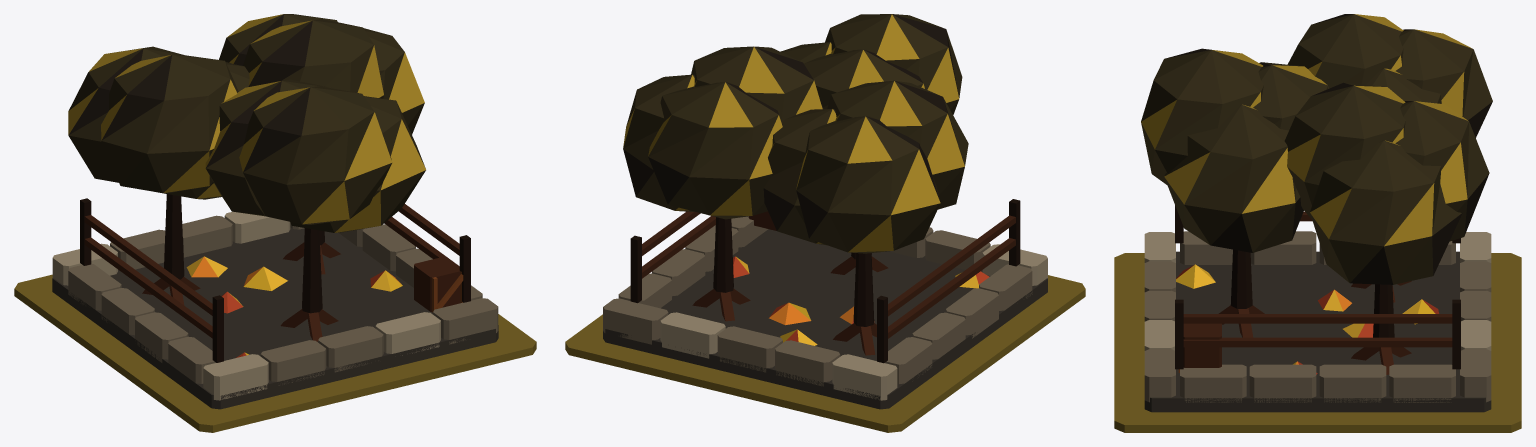
Rendered from grove_t4.glb.
3 views of the same model, side by side, from view 1: azimuth 30°, elevation 25°; view 2: azimuth 150°, elevation 25°; view 3: azimuth 270°, elevation 25° (orthographic). The views are drawn at different scales.
Visible parts, largest first — view 1: MMR | grove | T04 Architecture.001, MMR | grove | Tier 04 Ground.001, MMR | grove | T04 Autumn Dressing.001; view 2: MMR | grove | T04 Architecture.001, MMR | grove | Tier 04 Ground.001, MMR | grove | T04 Autumn Dressing.001; view 3: MMR | grove | T04 Architecture.001, MMR | grove | Tier 04 Ground.001, MMR | grove | T04 Autumn Dressing.001.
Part boxes in pixels (x1,y1,x2,y2): MMR | grove | T04 Architecture.001: [52, 14, 498, 409]; MMR | grove | Tier 04 Ground.001: [14, 274, 536, 432]; MMR | grove | T04 Autumn Dressing.001: [186, 256, 402, 357]; MMR | grove | T04 Architecture.001: [603, 14, 1047, 409]; MMR | grove | Tier 04 Ground.001: [565, 275, 1085, 432]; MMR | grove | T04 Autumn Dressing.001: [733, 256, 989, 345]; MMR | grove | T04 Architecture.001: [1141, 14, 1492, 412]; MMR | grove | Tier 04 Ground.001: [1114, 253, 1521, 432]; MMR | grove | T04 Autumn Dressing.001: [1176, 264, 1439, 374].
Bounding box in the file's own units: 2.35 × 1.84 × 2.35.
1 material, 1 textured.
